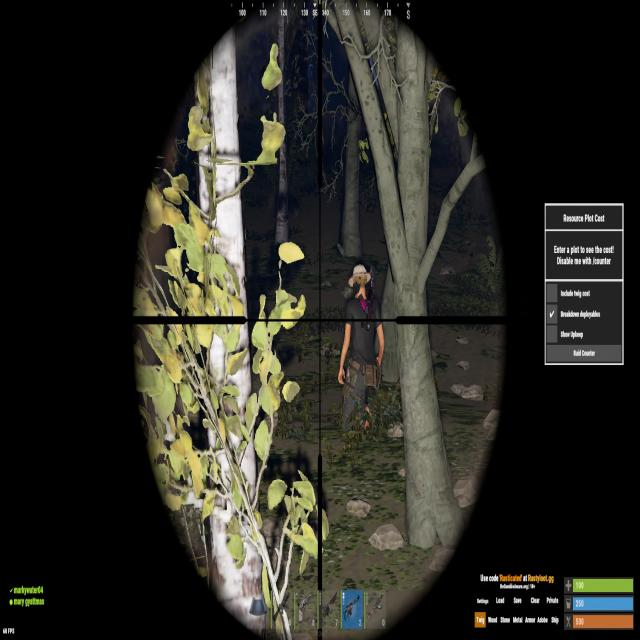Player: (338, 264, 385, 434)
